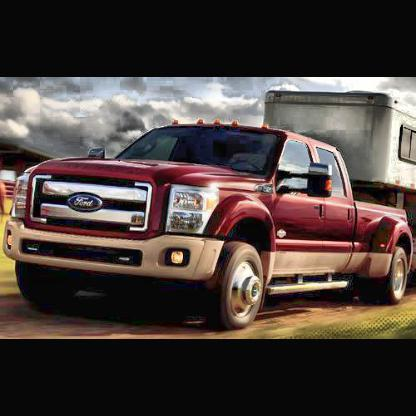Ford F-450 Super Duty Crew Cab 2012: (5, 118, 416, 332)
